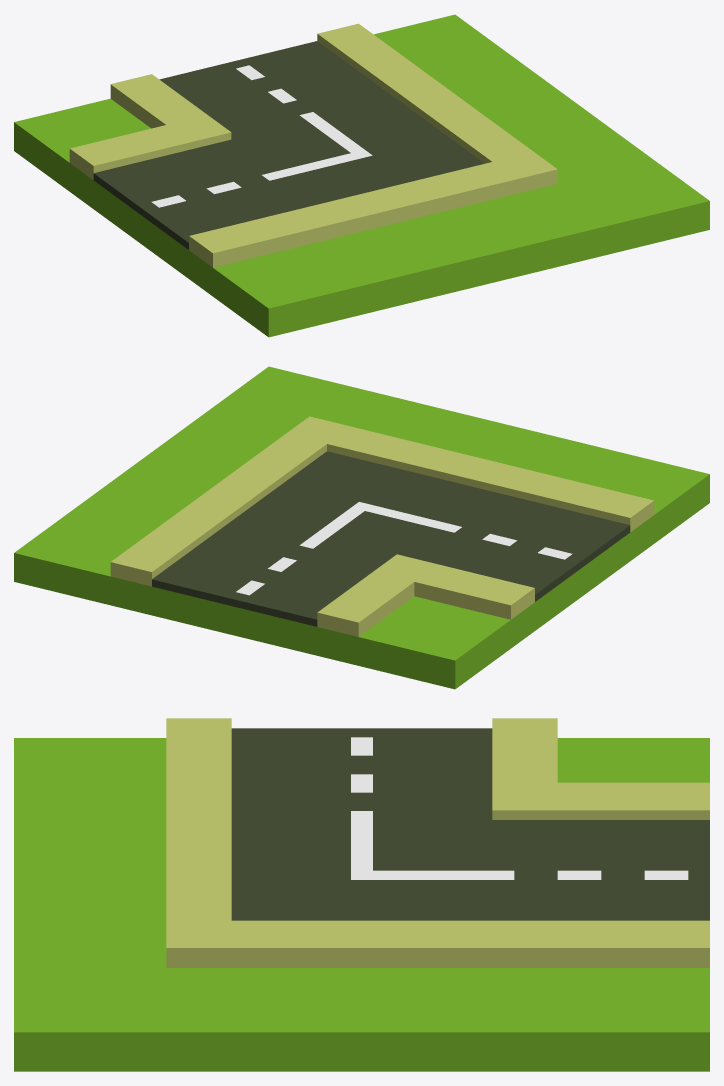
Rendered from Turn_Left_Up.obj.
The picture shows the model from 3 angles, top to bottom: view 1: azimuth 30°, elevation 25°; view 2: azimuth 150°, elevation 25°; view 3: azimuth 270°, elevation 25°; orthographic projection. The views are drawn at different scales.
Bounding box in the file's own units: 6.4 × 0.6 × 6.4.
1 material, 1 textured.
